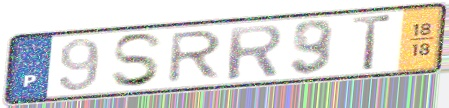9: (289, 18, 334, 78), (56, 36, 101, 93)
R: (163, 27, 227, 86), (225, 22, 285, 82)
S: (108, 30, 167, 89)
T: (348, 12, 396, 73)
